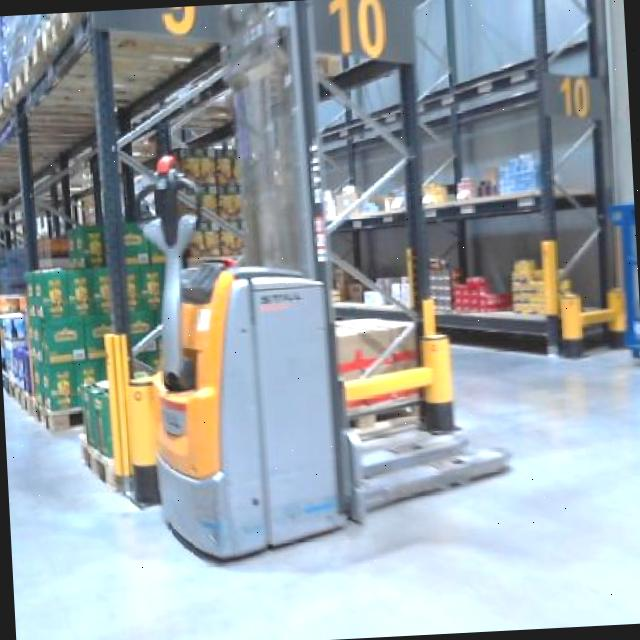pallet: (18, 375, 86, 434), (73, 420, 122, 498)
